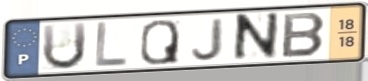B: (280, 11, 329, 59)
J: (190, 16, 227, 62)
L: (93, 20, 130, 68)
N: (230, 10, 282, 65)
Q: (138, 18, 181, 66)
U: (40, 20, 89, 72)
